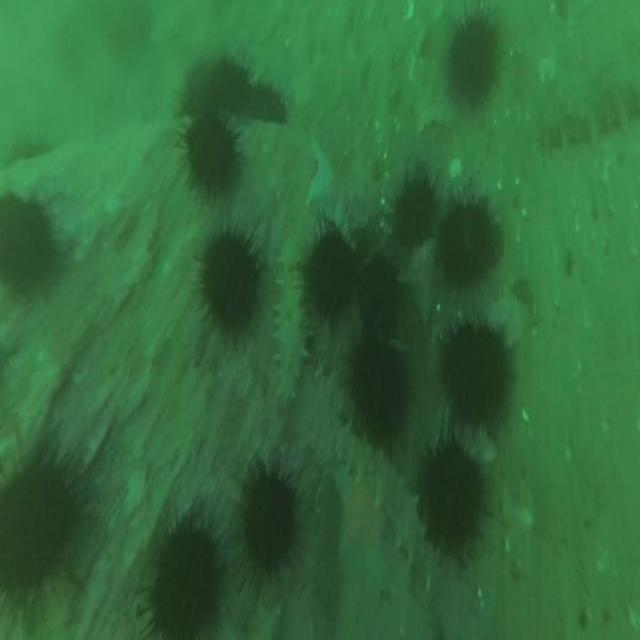echinus: (1, 466, 76, 605), (149, 524, 219, 640), (421, 446, 480, 554), (202, 229, 260, 329), (444, 327, 505, 419), (351, 344, 409, 440), (302, 228, 359, 322), (242, 479, 298, 572), (1, 199, 52, 297), (448, 16, 500, 101), (439, 202, 492, 280), (188, 117, 238, 197), (357, 254, 401, 340), (394, 177, 437, 247), (214, 54, 247, 115), (242, 82, 289, 120), (182, 80, 220, 118)
holothurian: (335, 431, 436, 591), (272, 240, 313, 409), (542, 93, 628, 155)
starfish: (308, 139, 361, 243)
